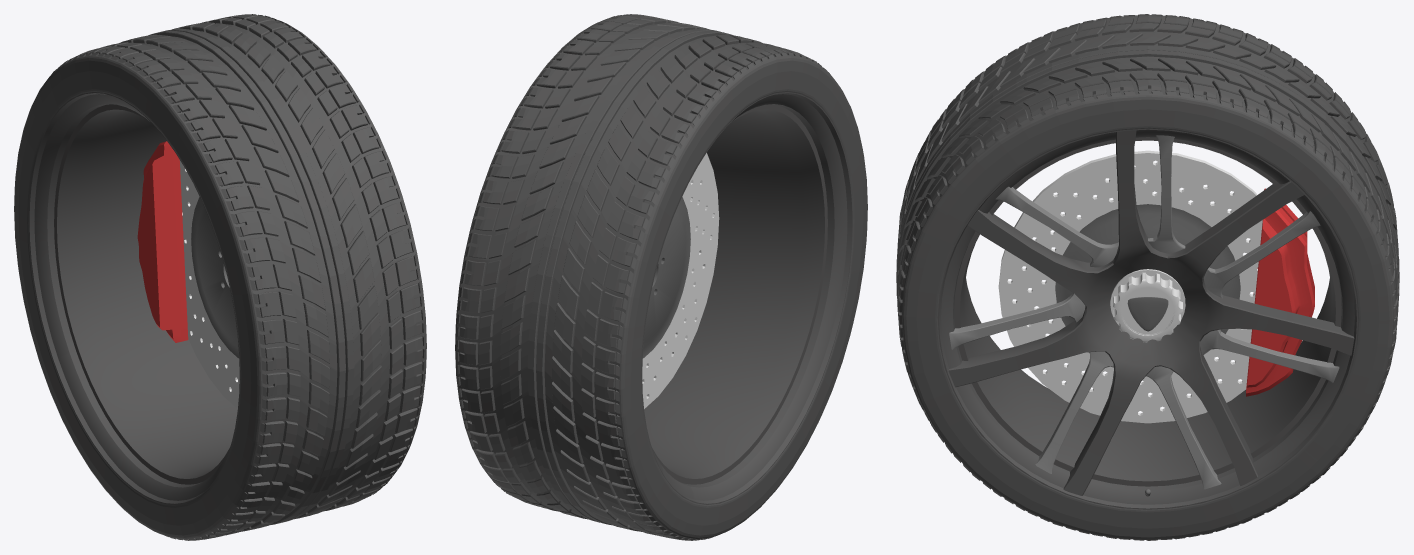
Rendered from wheel.fbx.
3 views of the same model, side by side, from view 1: azimuth 30°, elevation 25°; view 2: azimuth 150°, elevation 25°; view 3: azimuth 270°, elevation 25° (orthographic).
Parts seen in each view (by area): view 1: ZenvoTyre, ZenvoRim; view 2: ZenvoTyre, ZenvoRim; view 3: ZenvoRim, ZenvoTyre.
Boxes of the visible parts, x1,y1,x2,y2 form: ZenvoTyre: [14, 14, 426, 540]; ZenvoRim: [29, 92, 240, 504]; ZenvoTyre: [455, 14, 867, 540]; ZenvoRim: [641, 92, 852, 504]; ZenvoRim: [937, 128, 1358, 509]; ZenvoTyre: [896, 14, 1399, 540].
Size of what is drawn, in the model's own units: 119 by 303 by 303.
